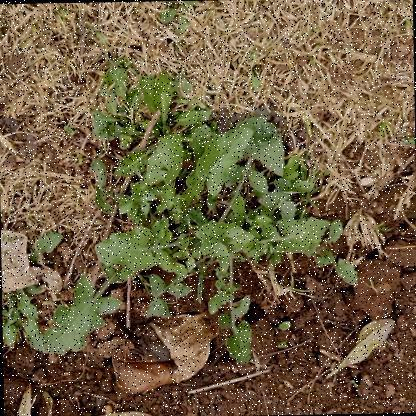Weeds: (36, 61, 358, 367), (1, 229, 66, 351), (161, 1, 202, 36)
